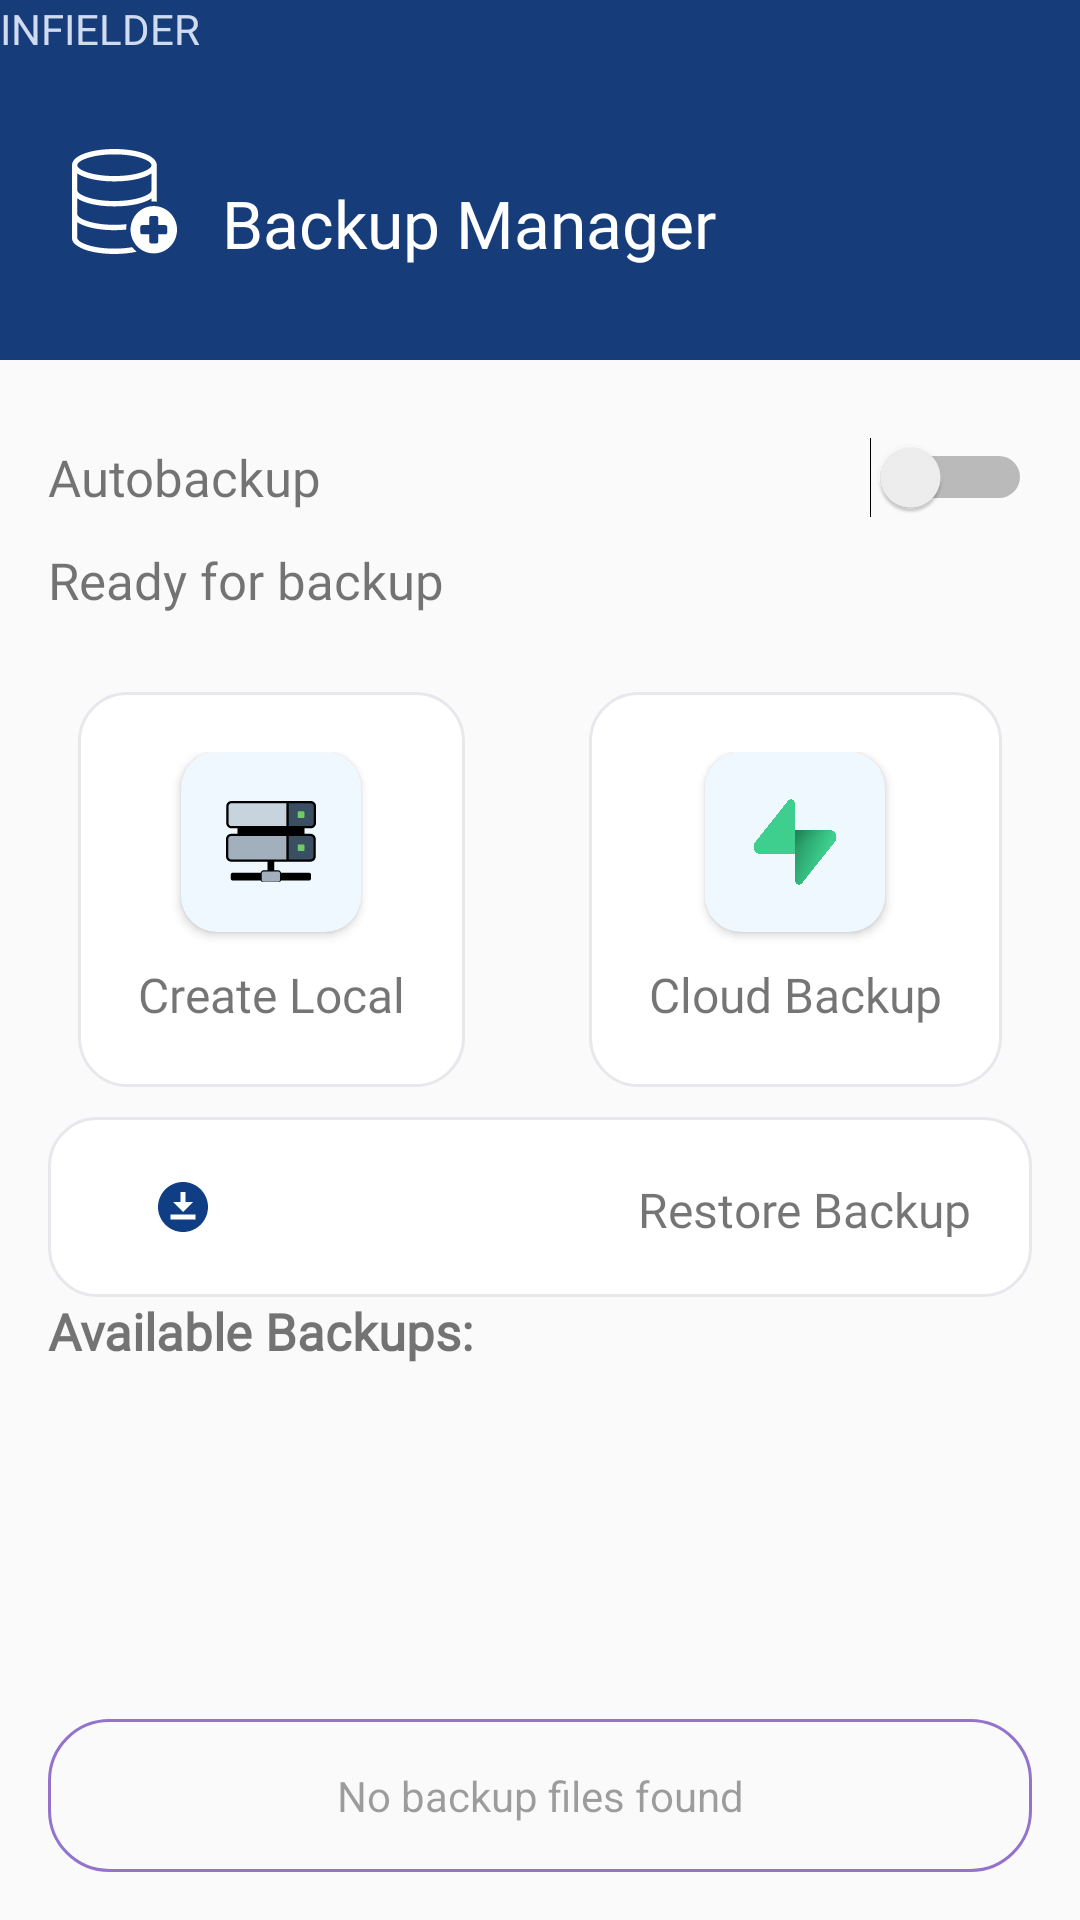

Point at icon controls on the screen. Image size 1080w x 1920h, points as point (x, y).
database add: point (124, 201)
download for offline: point (183, 1207)
server rack: point (271, 841)
